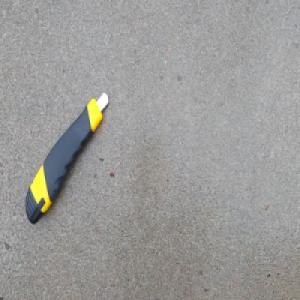Cutter: (26, 90, 110, 226)
